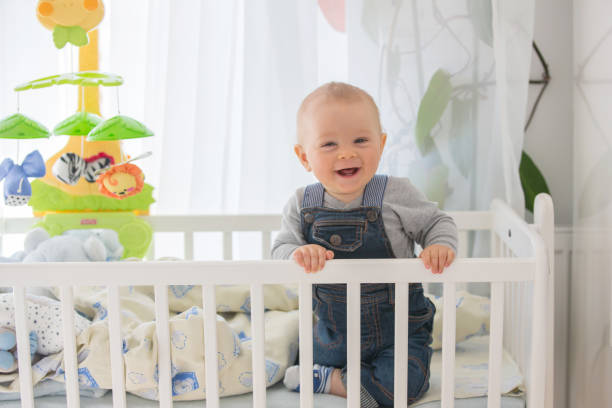baby: (272, 82, 456, 272)
crib: (0, 194, 553, 407)
